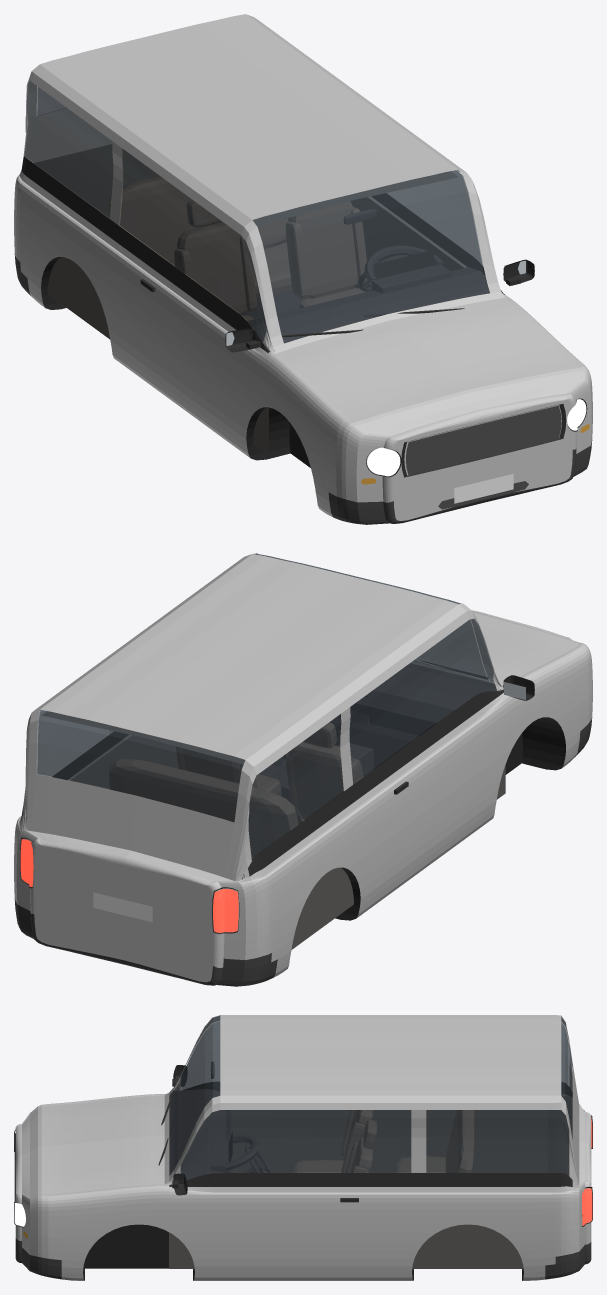
File: car_nomad.fbx
3 views of the same model, one above another, from view 1: azimuth 30°, elevation 25°; view 2: azimuth 150°, elevation 25°; view 3: azimuth 270°, elevation 25° (orthographic). The views are drawn at different scales.
Visible parts, largest first — view 1: nomad__roof, nomad__glass, nomad__hood, nomad__seats, nomad__doorR, nomad__cabin, nomad__interior, nomad__fenderFR, nomad__quarterR, nomad__fascia, nomad__pillars, nomad__grille (+10 smaller); view 2: nomad__roof, nomad__glass, nomad__rearPanel, nomad__doorR, nomad__trunk, nomad__seats, nomad__quarterR, nomad__interior, nomad__hood, nomad__cabin, nomad__pillars, nomad__seals (+6 smaller); view 3: nomad__roof, nomad__glass, nomad__doorL, nomad__cabin, nomad__hood, nomad__quarterL, nomad__fenderFL, nomad__seals, nomad__interior, nomad__pillars, nomad__seats, nomad__wells (+6 smaller).
Part boxes in pixels (x1,y1,x2,y2): nomad__roof: (32,14,465,226); nomad__glass: (24,80,489,342); nomad__hood: (271,297,585,443); nomad__seats: (108,176,367,320); nomad__doorR: (117,248,265,457); nomad__cabin: (33,144,463,455); nomad__interior: (243,209,504,351); nomad__fenderFR: (257,351,387,516); nomad__quarterR: (14,171,124,363); nomad__fascia: (382,395,576,520); nomad__pillars: (23,71,503,350); nomad__grille: (406,405,561,509); nomad__roof: (32,554,466,766); nomad__glass: (36,554,495,859); nomad__rearPanel: (30,840,224,982); nomad__doorR: (363,693,510,911); nomad__trunk: (21,660,503,889); nomad__seats: (108,722,363,860); nomad__quarterR: (219,796,370,977); nomad__interior: (259,663,501,824); nomad__hood: (416,610,584,685); nomad__cabin: (23,711,505,949); nomad__pillars: (23,553,503,867); nomad__seals: (21,689,503,876); nomad__roof: (220,1015,561,1102); nomad__glass: (170,1016,571,1179); nomad__doorL: (174,1187,399,1280); nomad__cabin: (169,1094,576,1268); nomad__hood: (15,1094,164,1199); nomad__quarterL: (399,1183,584,1280); nomad__fenderFL: (22,1187,173,1280); nomad__seals: (169,1081,572,1186); nomad__interior: (169,1061,261,1184); nomad__pillars: (169,1015,572,1184); nomad__seats: (294,1110,474,1172); nomad__wells: (83,1224,523,1280).
Bounding box in the file's own units: 2.23 × 1.59 × 4.58.
